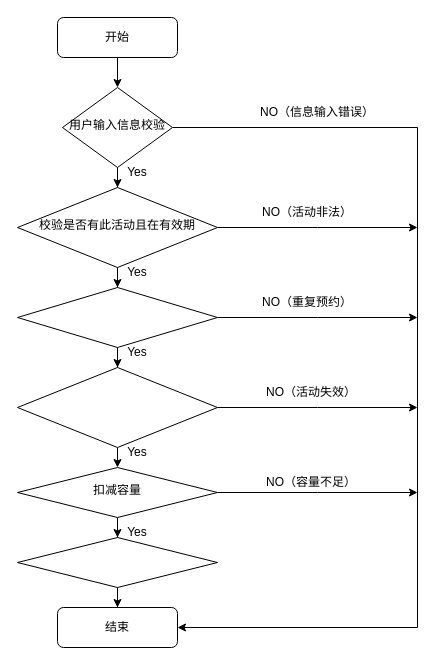
Some shapes in this 443 by 665 pixel diagram are drawn without their labels. Each missing label, with the centre of its shape:
"日志记录" goes at pixel 117 562.
"是否存在分段活动且在有效期" goes at pixel 117 407.
"校验用户是否已预约" goes at pixel 117 317.
